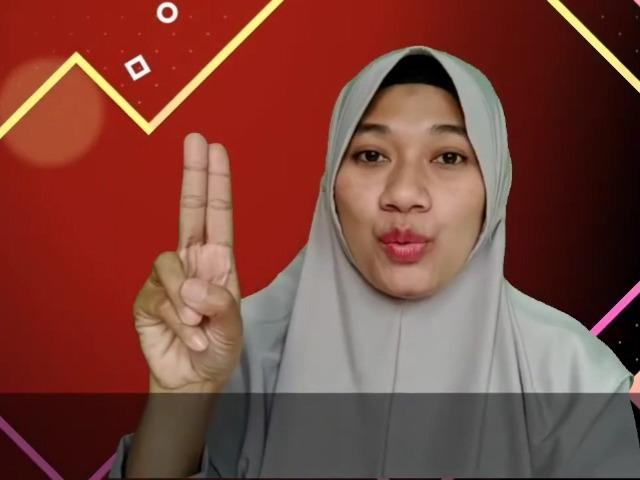U: (126, 123, 248, 390)
